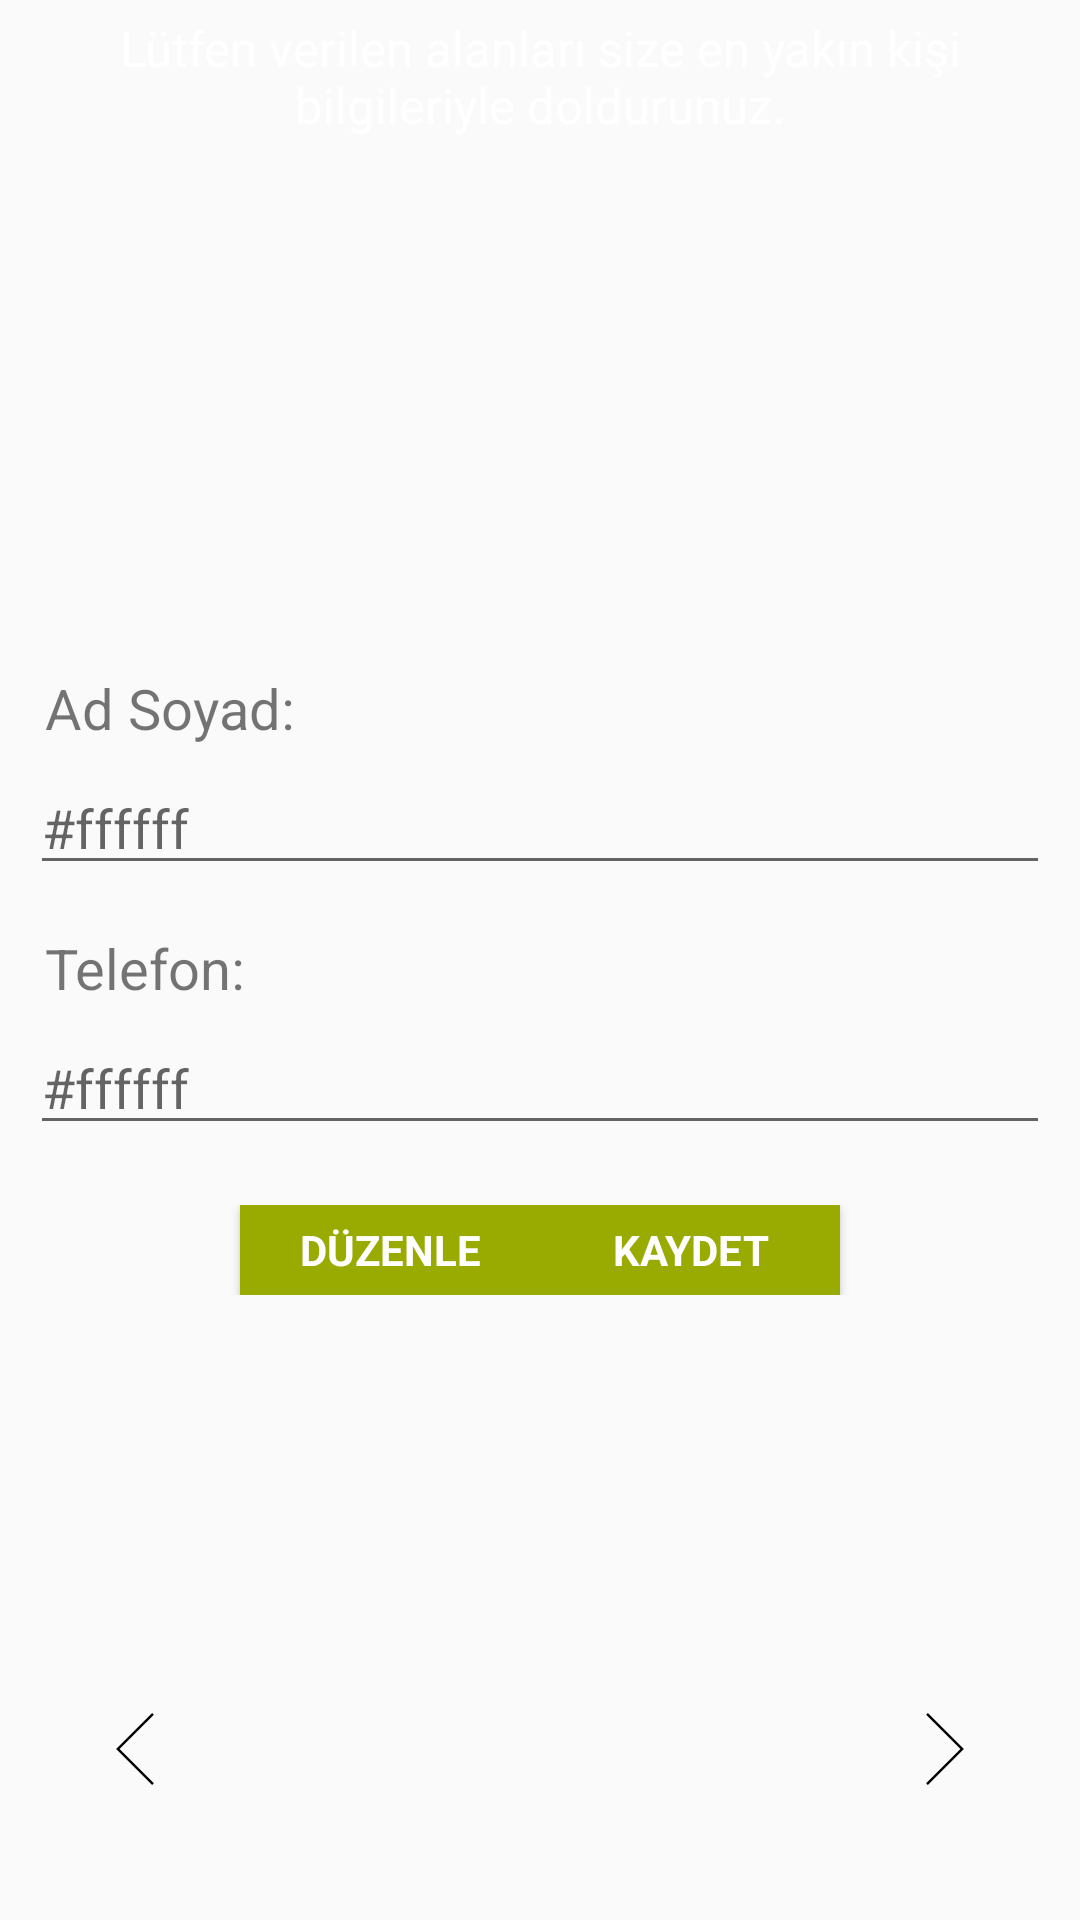

Where icons sit on this 1080w x 1920h app screen, as rect(x1, y1, x2, y2):
left arrow: rect(116, 1713, 154, 1785)
right arrow: rect(926, 1713, 964, 1785)
